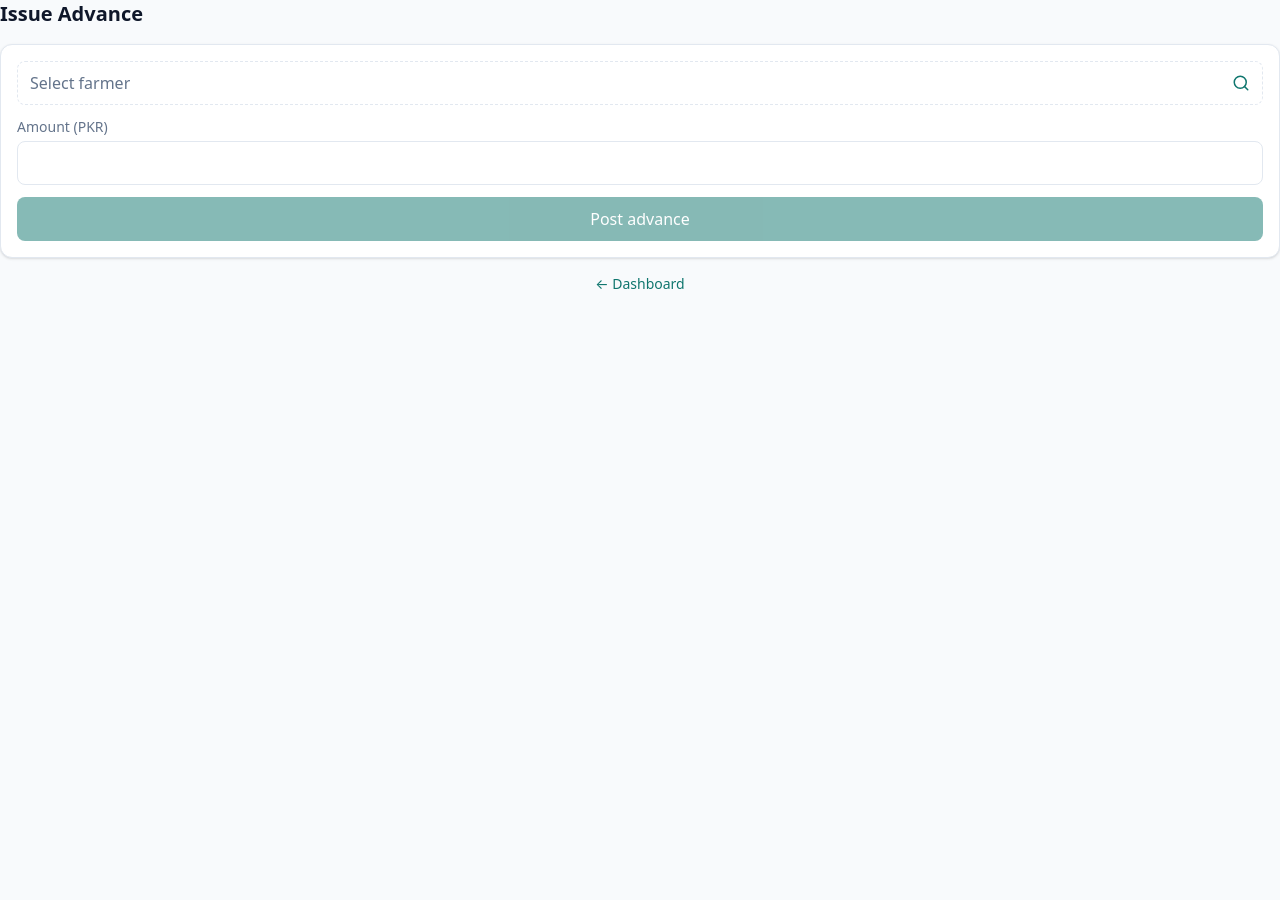
IssueAdvance › picks the farmer via the ContactPicker (no raw-id box) and posts the advance
The width and height of the screenshot is (1280, 900).
Click the button "Select farmer" at (80, 83), box [17,61,1263,105]
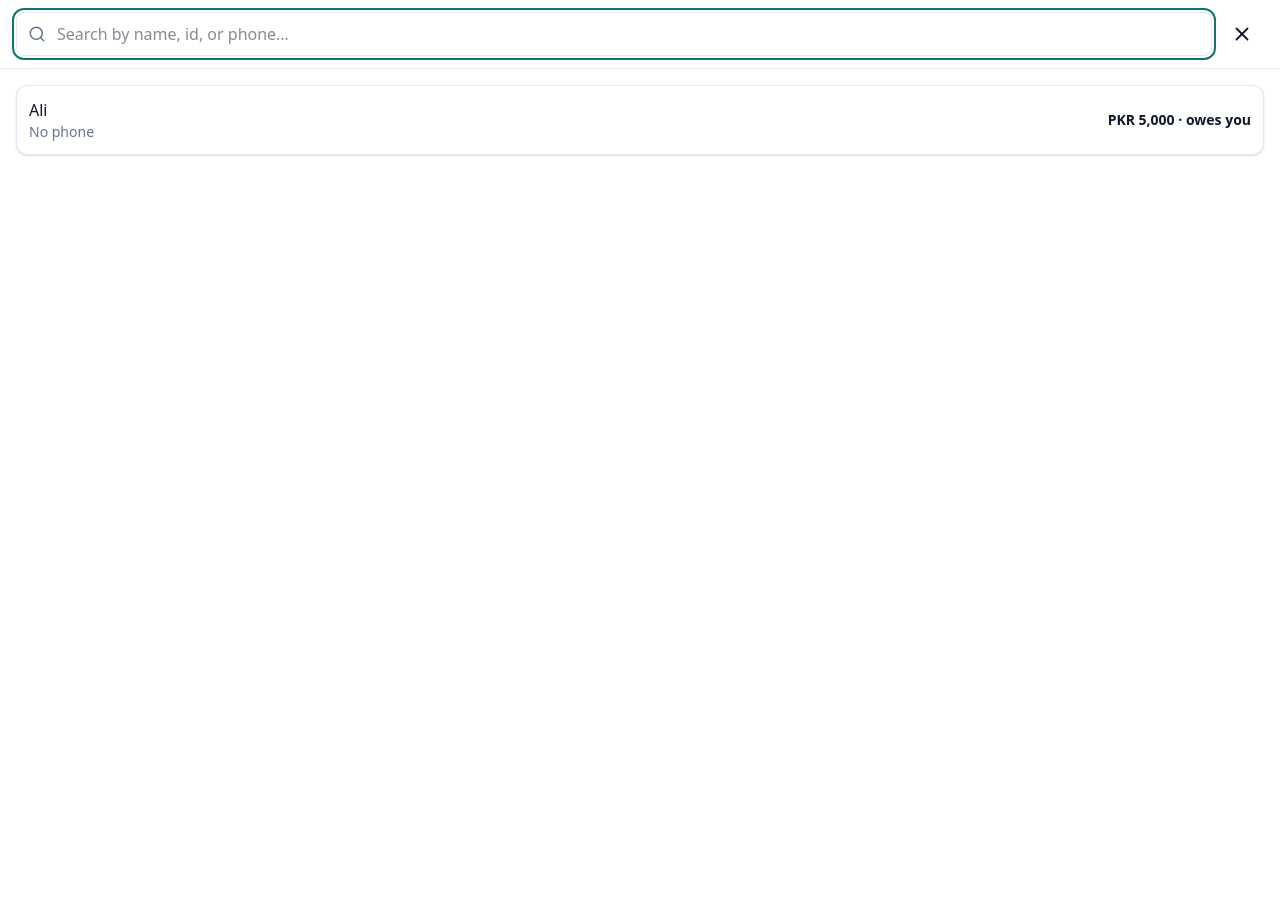
Click the text "Ali" at (38, 110), box [29,99,48,121]
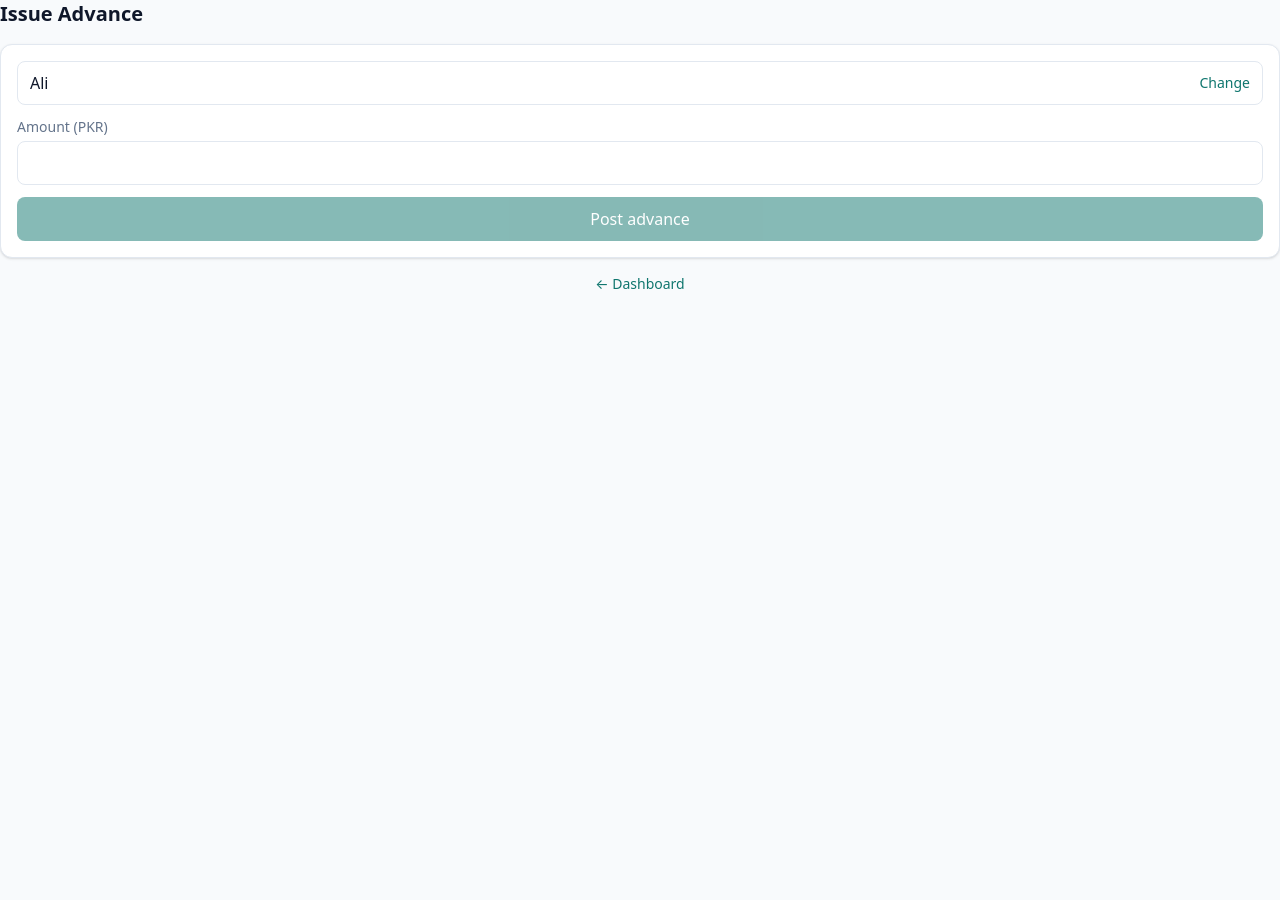
Type "2000" into the number field labelled "Amount (PKR)" at (640, 163), box [17,141,1263,185]
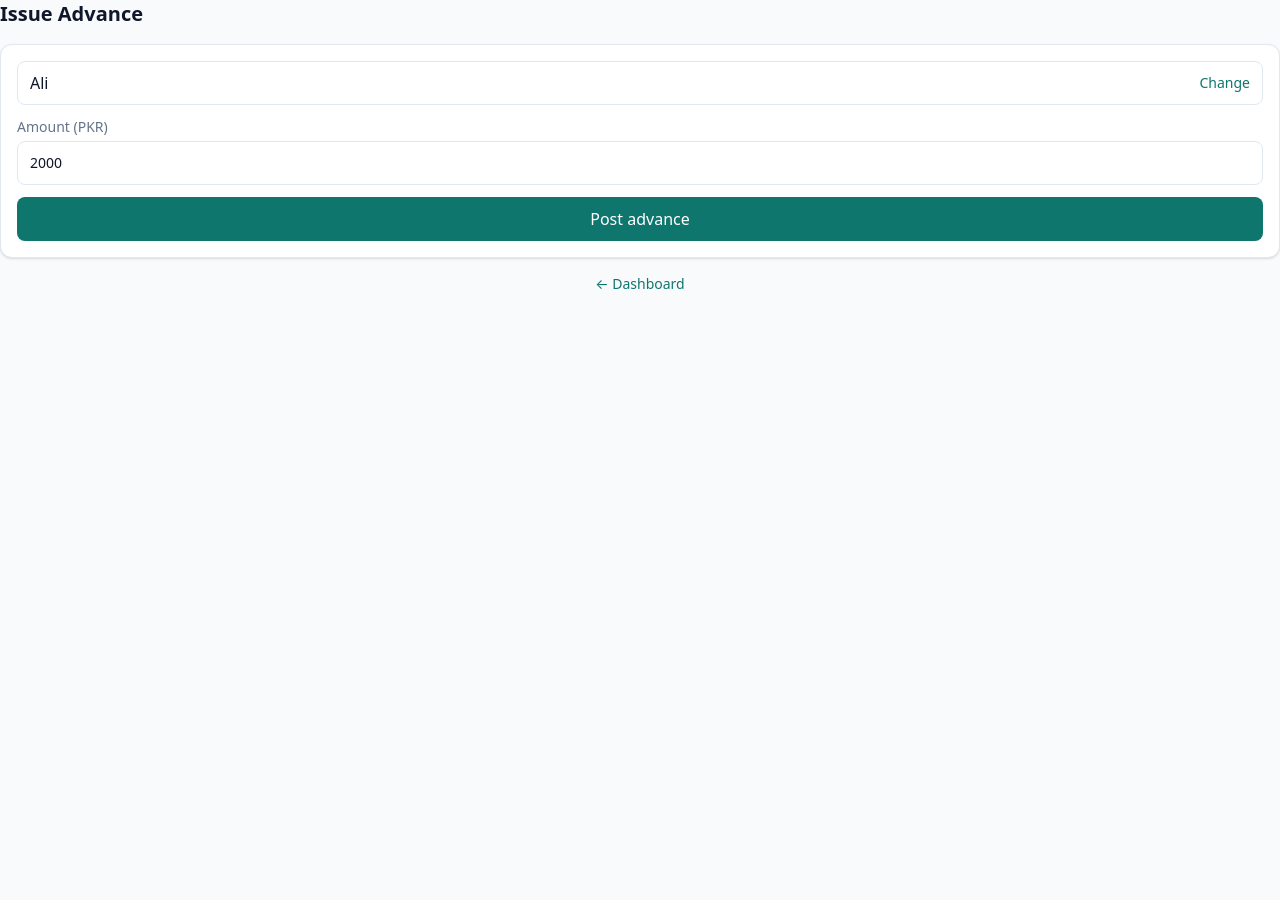
Click the button "Post advance" at (640, 219), box [17,197,1263,241]
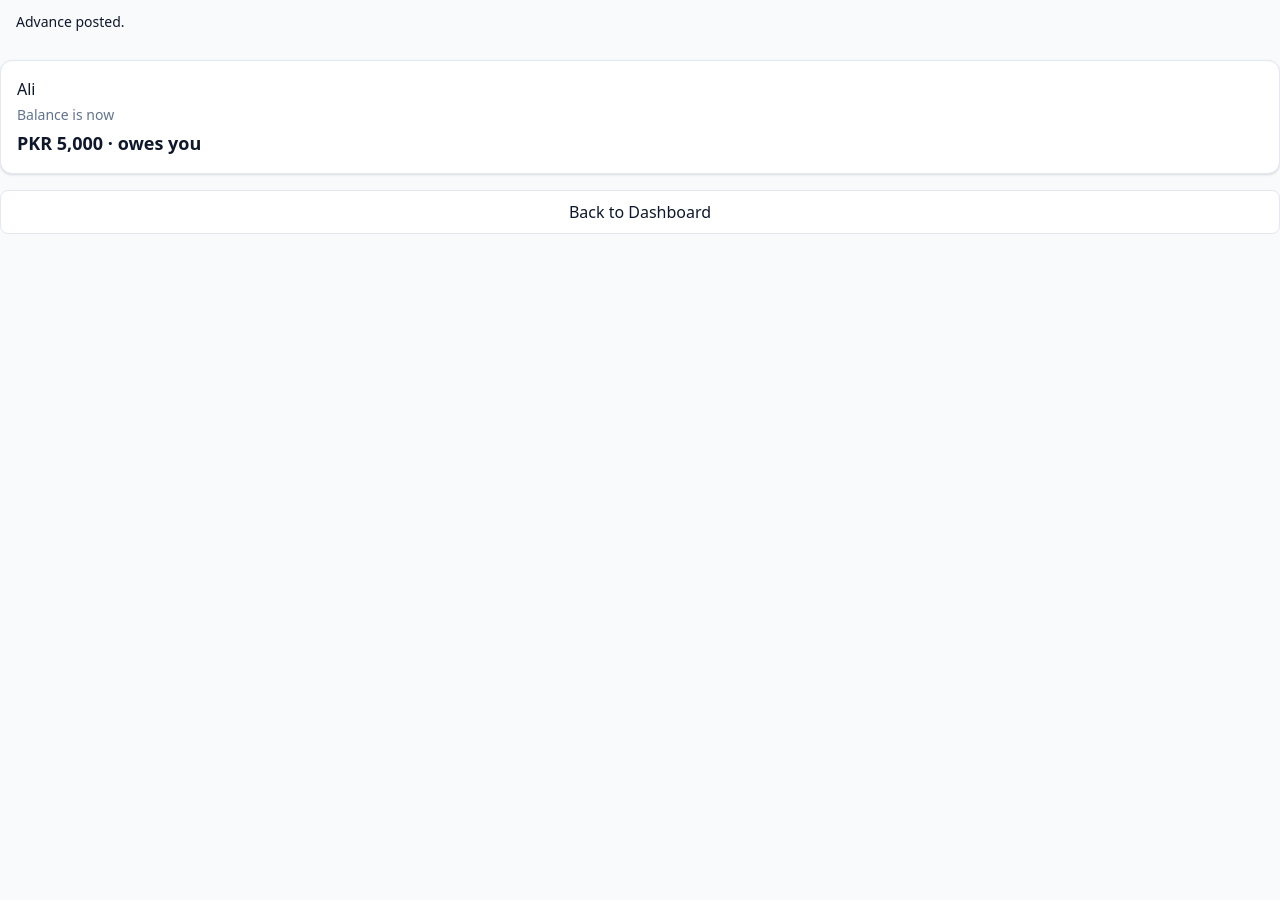
Expected: the text "Advance posted." is shown, [16,12,124,31]
